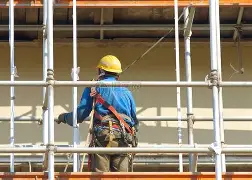safety belt: (86, 82, 140, 136)
